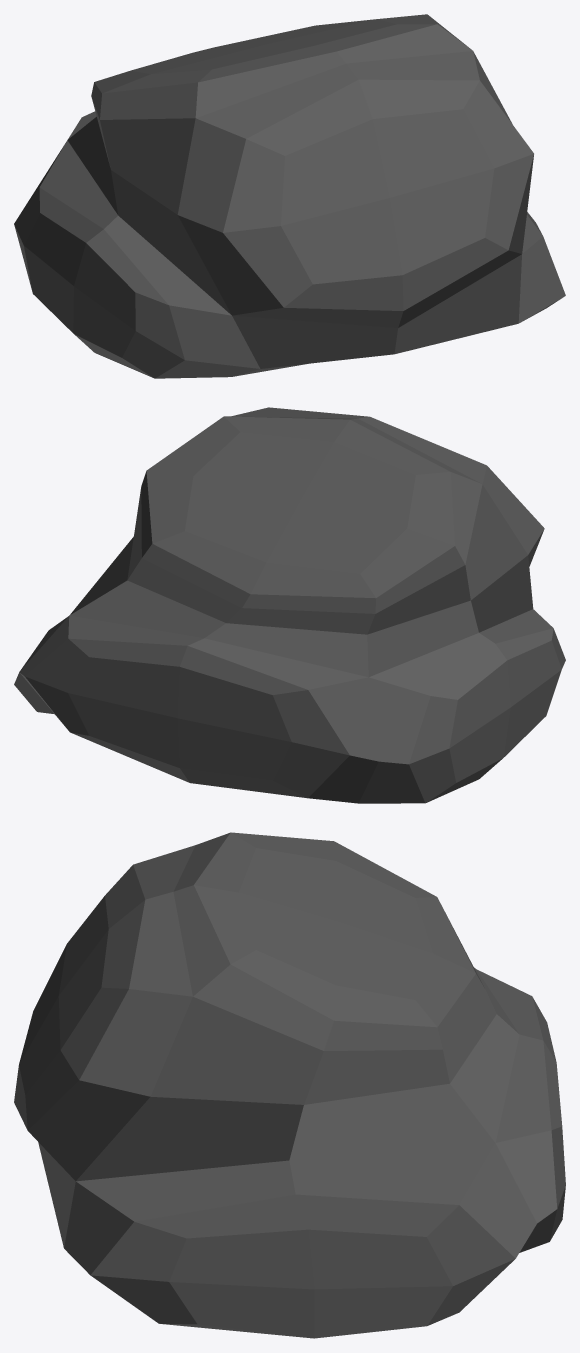
Rendered from Rock.fbx.
3 renders of one model, top to bottom at view 1: azimuth 30°, elevation 25°; view 2: azimuth 150°, elevation 25°; view 3: azimuth 270°, elevation 25°, orthographic. The views are drawn at different scales.
Visible parts, largest first — view 1: Cube; view 2: Cube; view 3: Cube.
Boxes of the visible parts, x1,y1,x2,y2 form: Cube: (14,14,565,378); Cube: (14,407,565,803); Cube: (14,832,565,1338).
Bounding box in the file's own units: 237 × 155 × 229.
